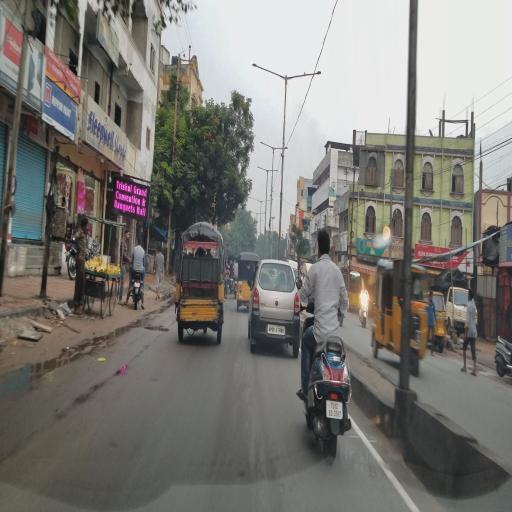street_light_0: (248, 51, 285, 83), (286, 59, 326, 85), (256, 133, 274, 156), (274, 132, 290, 156), (266, 157, 282, 181), (252, 154, 268, 178)
